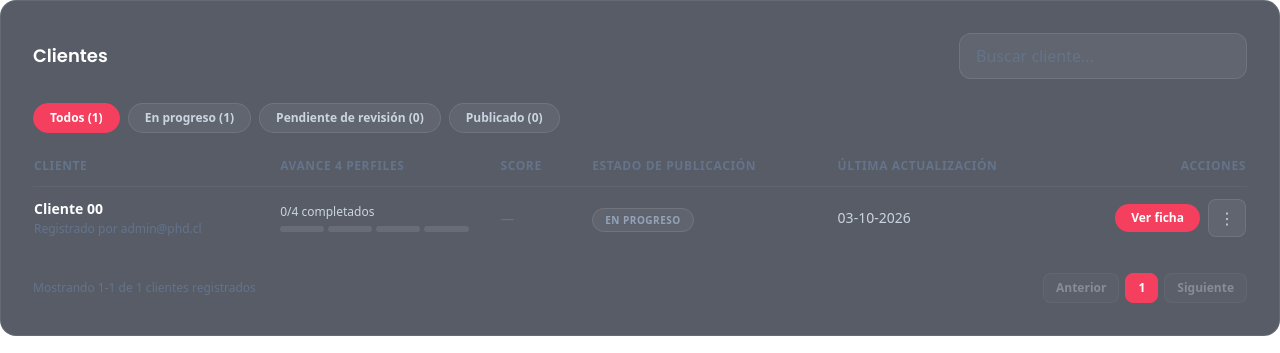
Test: ClientsTable › filters, kebab menu and pagination › 'Ver ficha' is a link to the client detail page and the menu closes with Escape
The width and height of the screenshot is (1280, 353).
Click the button "⋮" at point(1227, 218), box [1208,199,1246,237]
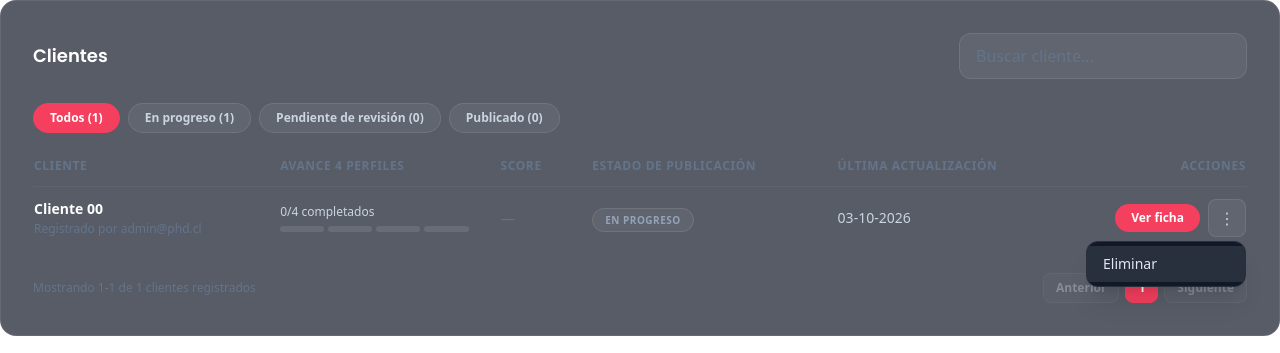
Now the menu is shown, box [1086,241,1246,287]
Press Escape
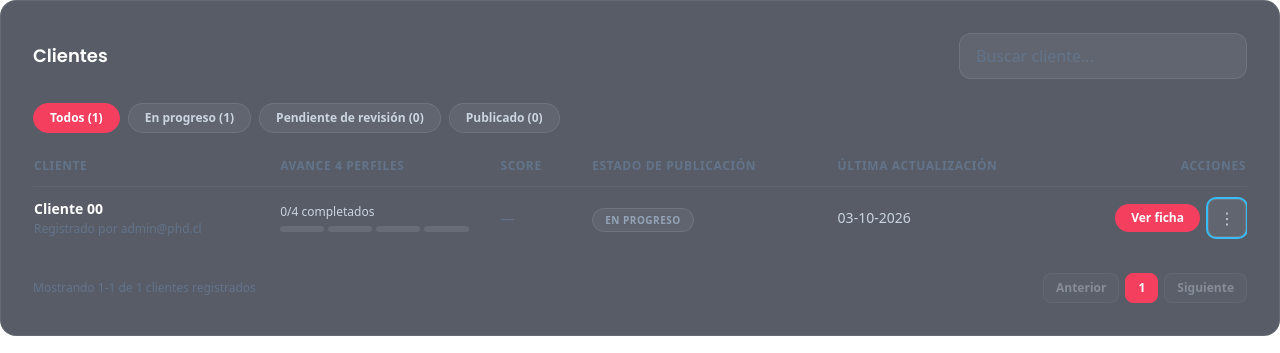
Now the menu is gone
